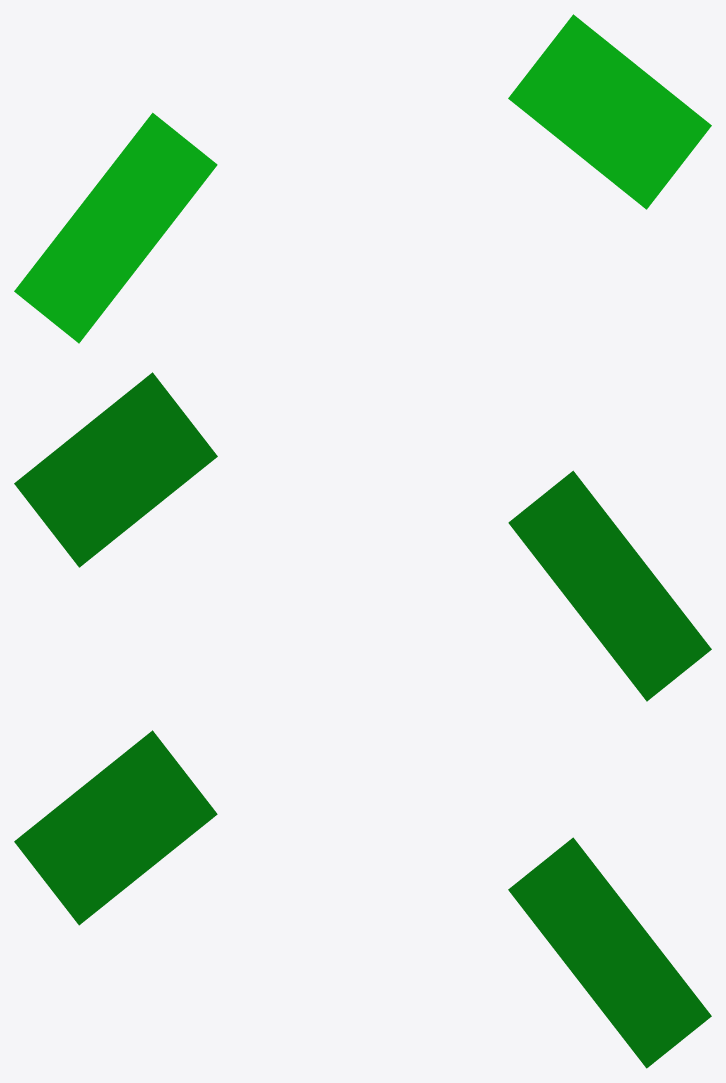
Rendered from image2-2.glb.
The picture shows the model from 3 angles, top to bottom: view 1: azimuth 30°, elevation 25°; view 2: azimuth 150°, elevation 25°; view 3: azimuth 330°, elevation 25°; orthographic projection.
Visible parts, largest first — view 1: InterstellarPoster.011; view 2: InterstellarPoster.011; view 3: InterstellarPoster.011.
Boxes of the visible parts, x1,y1,x2,y2 form: InterstellarPoster.011: (14, 14, 711, 343); InterstellarPoster.011: (14, 372, 711, 701); InterstellarPoster.011: (14, 730, 711, 1068).
Size of the model in its own units: 0.2991 by 0.0892 by 0.
